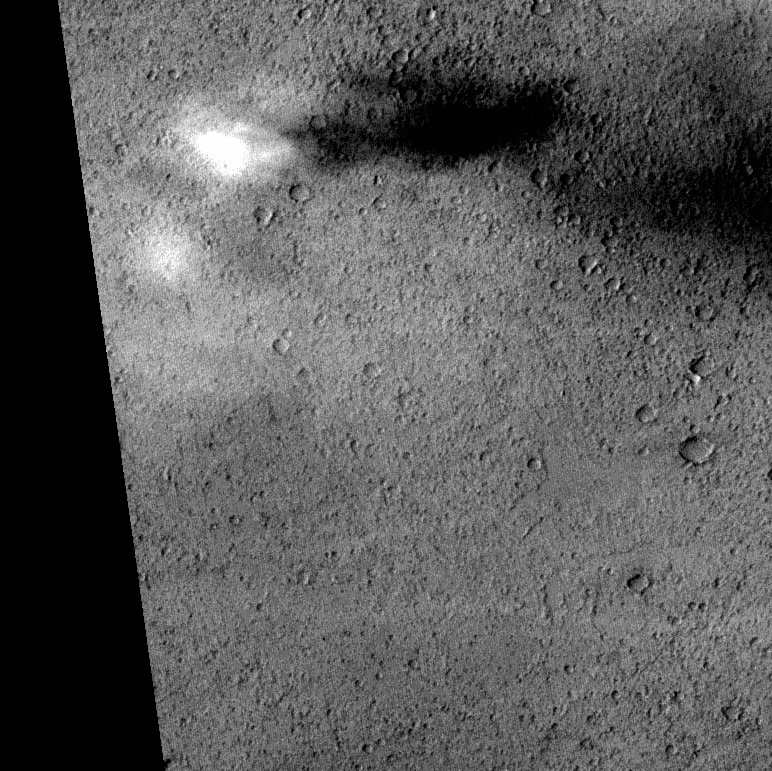dust_devil: (184, 56, 588, 183), (142, 224, 296, 296)
